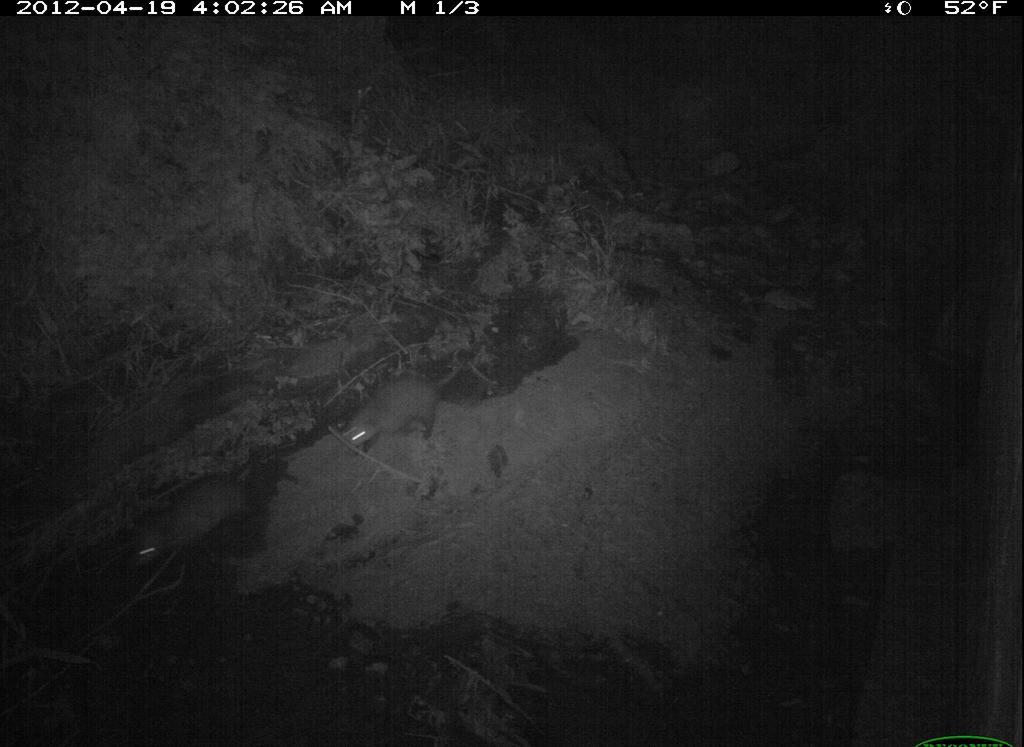opossum: (129, 456, 276, 587), (338, 351, 488, 456)
